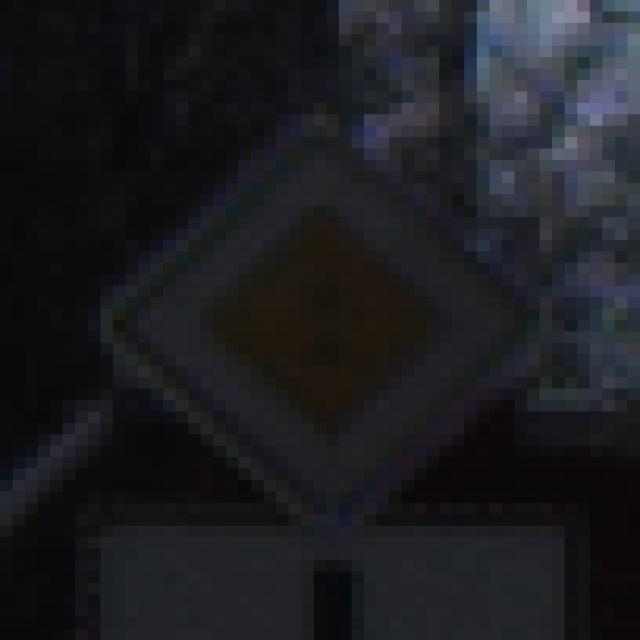Main Road: (64, 69, 578, 584)
